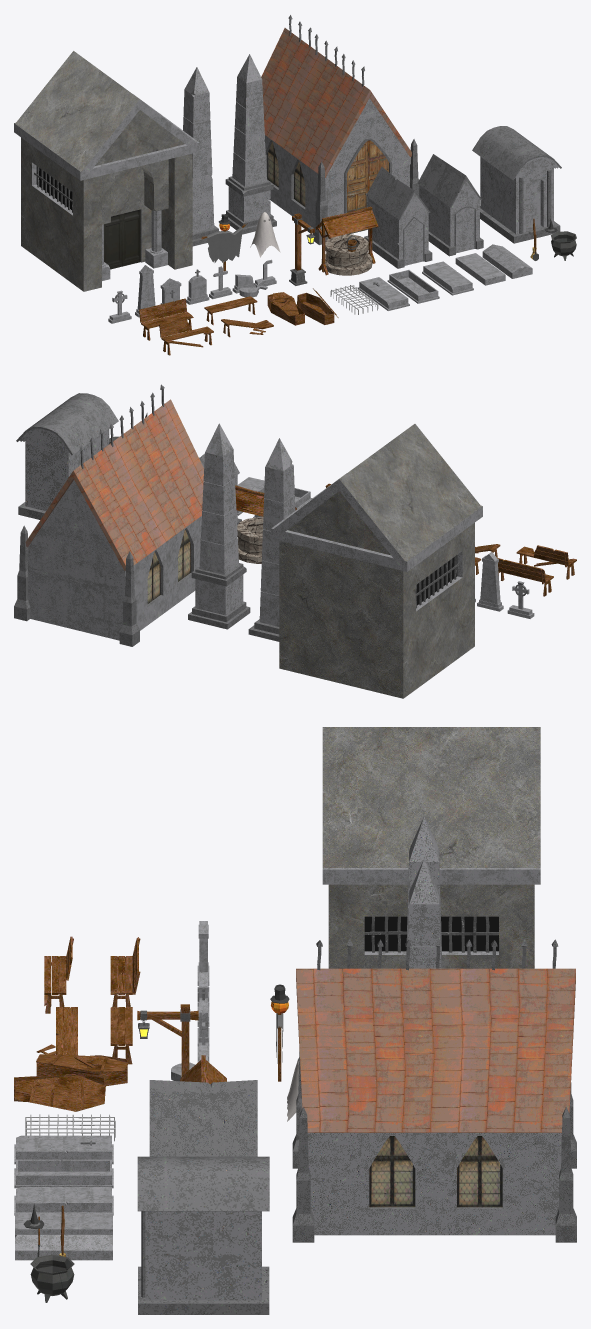
File: HalloweenGraveyardCompleteVersion.glb
The picture shows the model from 3 angles, top to bottom: view 1: azimuth 30°, elevation 25°; view 2: azimuth 150°, elevation 25°; view 3: azimuth 270°, elevation 25°; orthographic projection. The views are drawn at different scales.
Visible parts, largest first — view 1: Mousoleum, Chapel, Crypt3, Obelisk, Crypt2, Crypt1, Obelisk2, Well, ScareCrow, Bench2, Tomb1, Tomb2 (+15 smaller); view 2: Mousoleum, Chapel, Obelisk, Crypt3, Obelisk2, Well, Tombstone6, BrokenBench2, Bench2, Tombstone8; view 3: Chapel, Mousoleum, Crypt3, Crypt2, Crypt1, Obelisk, Tomb1, Tomb2, CoffinLid2, Tomb3, TombHatch2, TombHatch1 (+11 smaller).
Part boxes in pixels (x1,y1,x2,y2): Mousoleum: (14,51,199,291); Chapel: (261,15,419,244); Crypt3: (472,126,561,243); Obelisk: (225,54,276,234); Crypt2: (364,166,432,268); Crypt1: (417,154,483,256); Obelisk2: (183,67,219,246); Well: (315,206,378,275); ScareCrow: (201,214,247,271); Bench2: (139,298,193,340); Tomb1: (387,270,439,303); Tomb2: (422,261,473,295); Mousoleum: (271,424,482,698); Chapel: (14,384,203,646); Obelisk: (188,423,250,629); Crypt3: (16,393,118,519); Obelisk2: (248,438,295,641); Well: (235,485,296,563); Tombstone6: (477,552,503,611); BrokenBench2: (516,545,576,579); Bench2: (497,558,553,596); Tombstone8: (507,581,534,618); Chapel: (292,939,576,1242); Mousoleum: (322,727,540,968); Crypt3: (137,1156,269,1314); Crypt2: (149,1080,257,1120); Crypt1: (149,1117,257,1156); Obelisk: (407,858,441,968); Tomb1: (14,1159,113,1188); Tomb2: (14,1187,113,1215); CoffinLid2: (14,1075,105,1111); Tomb3: (14,1135,113,1164); TombHatch2: (15,1234,112,1260); TombHatch1: (15,1213,112,1234).
Bounding box in the file's own units: 18.69 × 7.56 × 12.86.
Materials: 19 (18 with a texture image).
